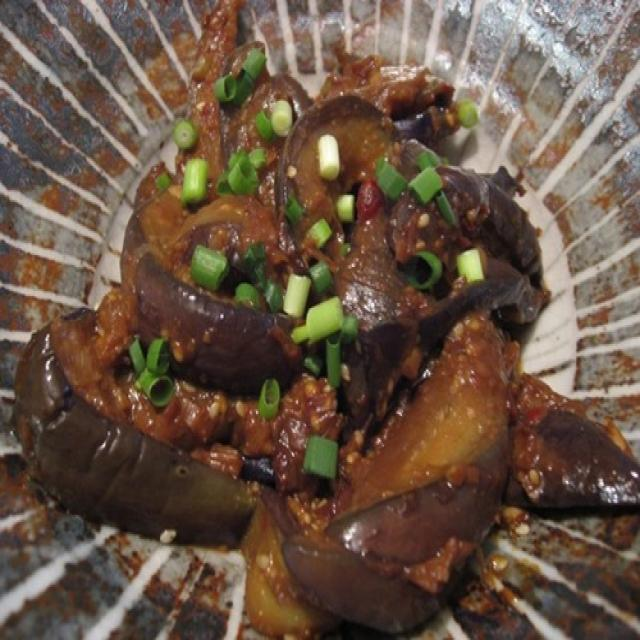鸡蛋料理: (15, 0, 640, 640)
